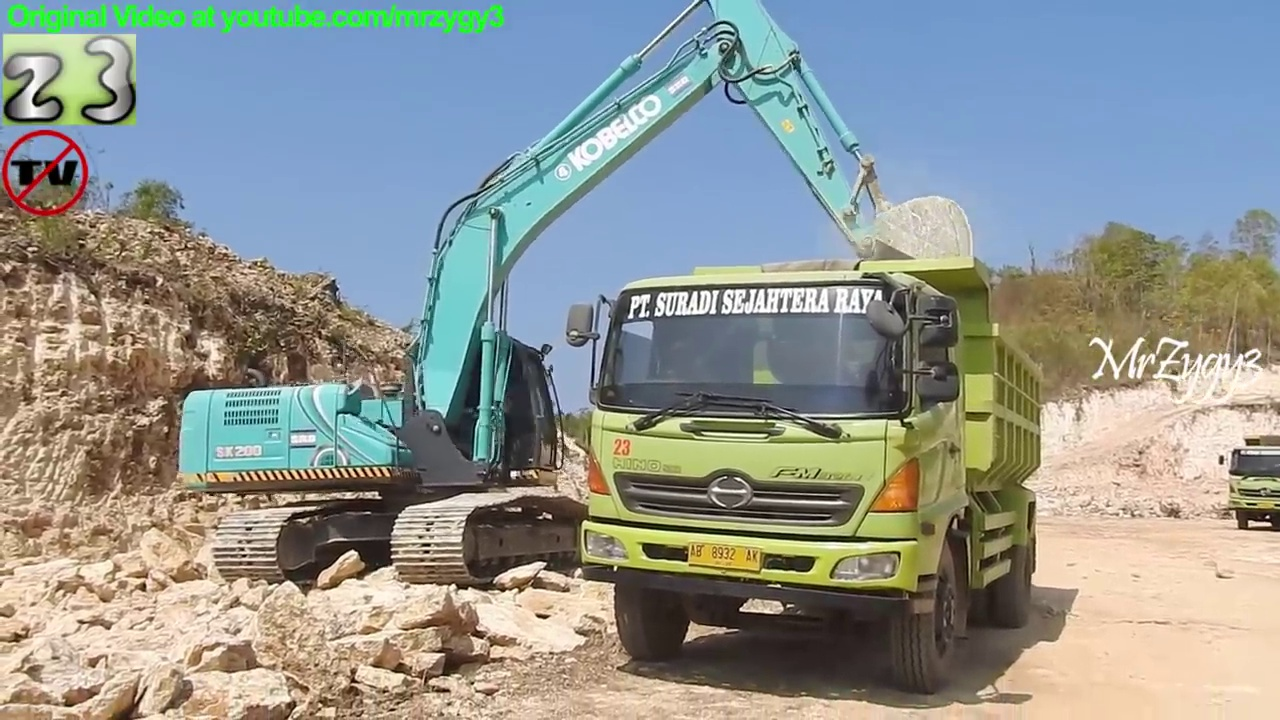excavator: (167, 1, 988, 600)
truck: (558, 251, 1053, 700), (1215, 428, 1280, 539)
